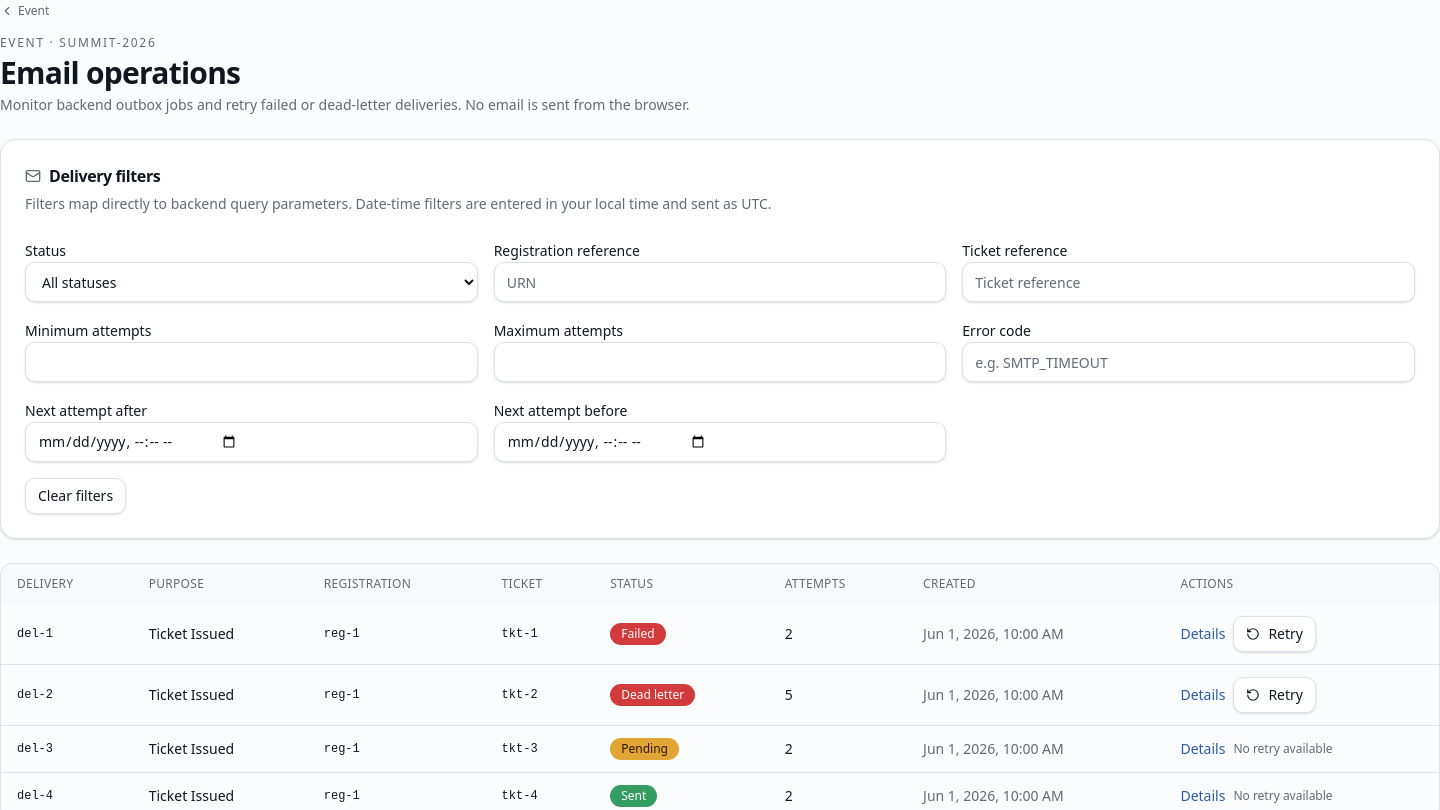
Scenario: email delivery operations › exposes accessible, responsive controls and no provider secrets in details
The width and height of the screenshot is (1440, 810).
Expected: the text "del-1" is shown, top-left (1, 604), bottom-right (133, 664)
Expected: the button "Clear filters" is shown, top-left (25, 478), bottom-right (126, 514)
Click the button "Details" in the row of "del-1": (1203, 634) top-left (1180, 624), bottom-right (1225, 644)
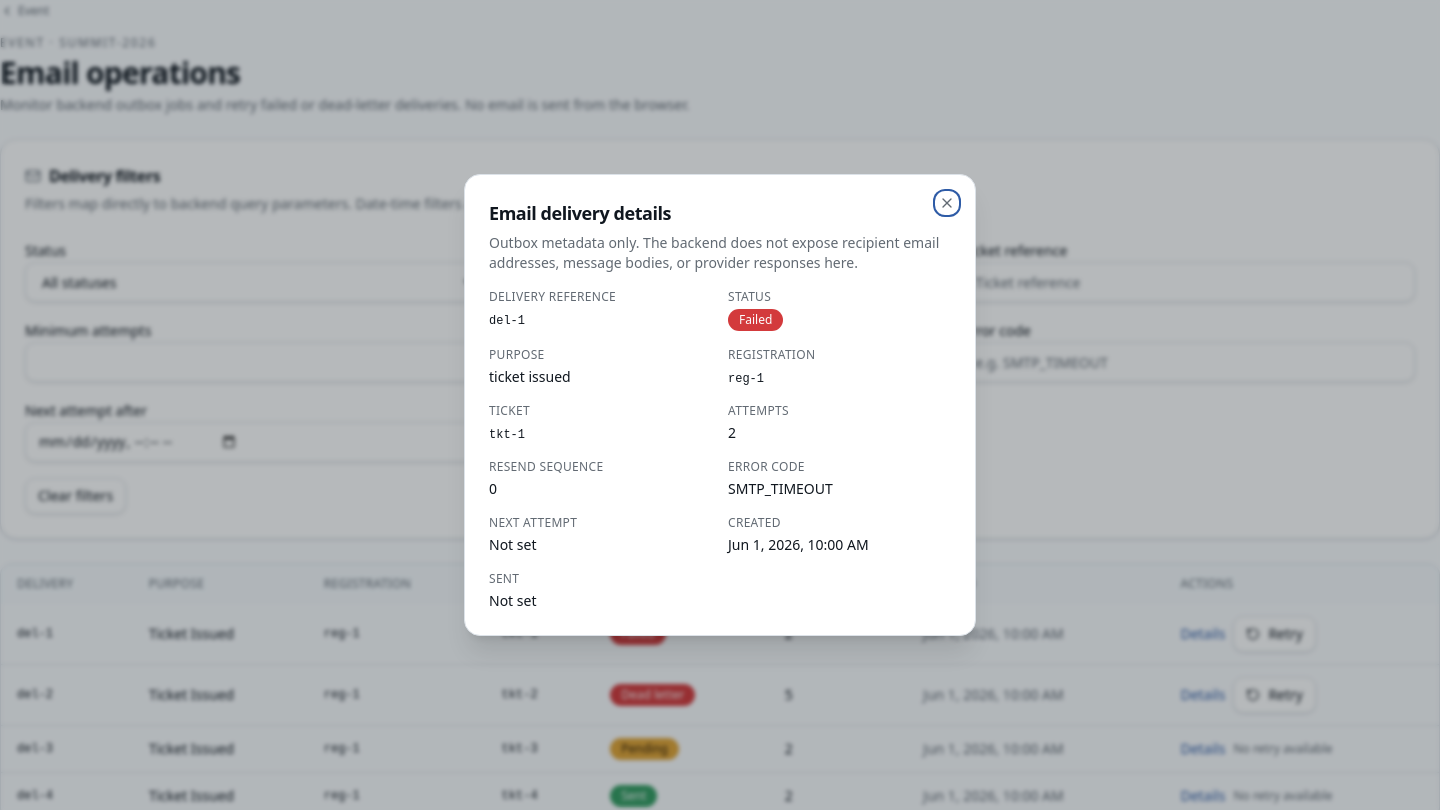
Expected: the heading "Email delivery details" is shown, top-left (489, 201), bottom-right (671, 225)
